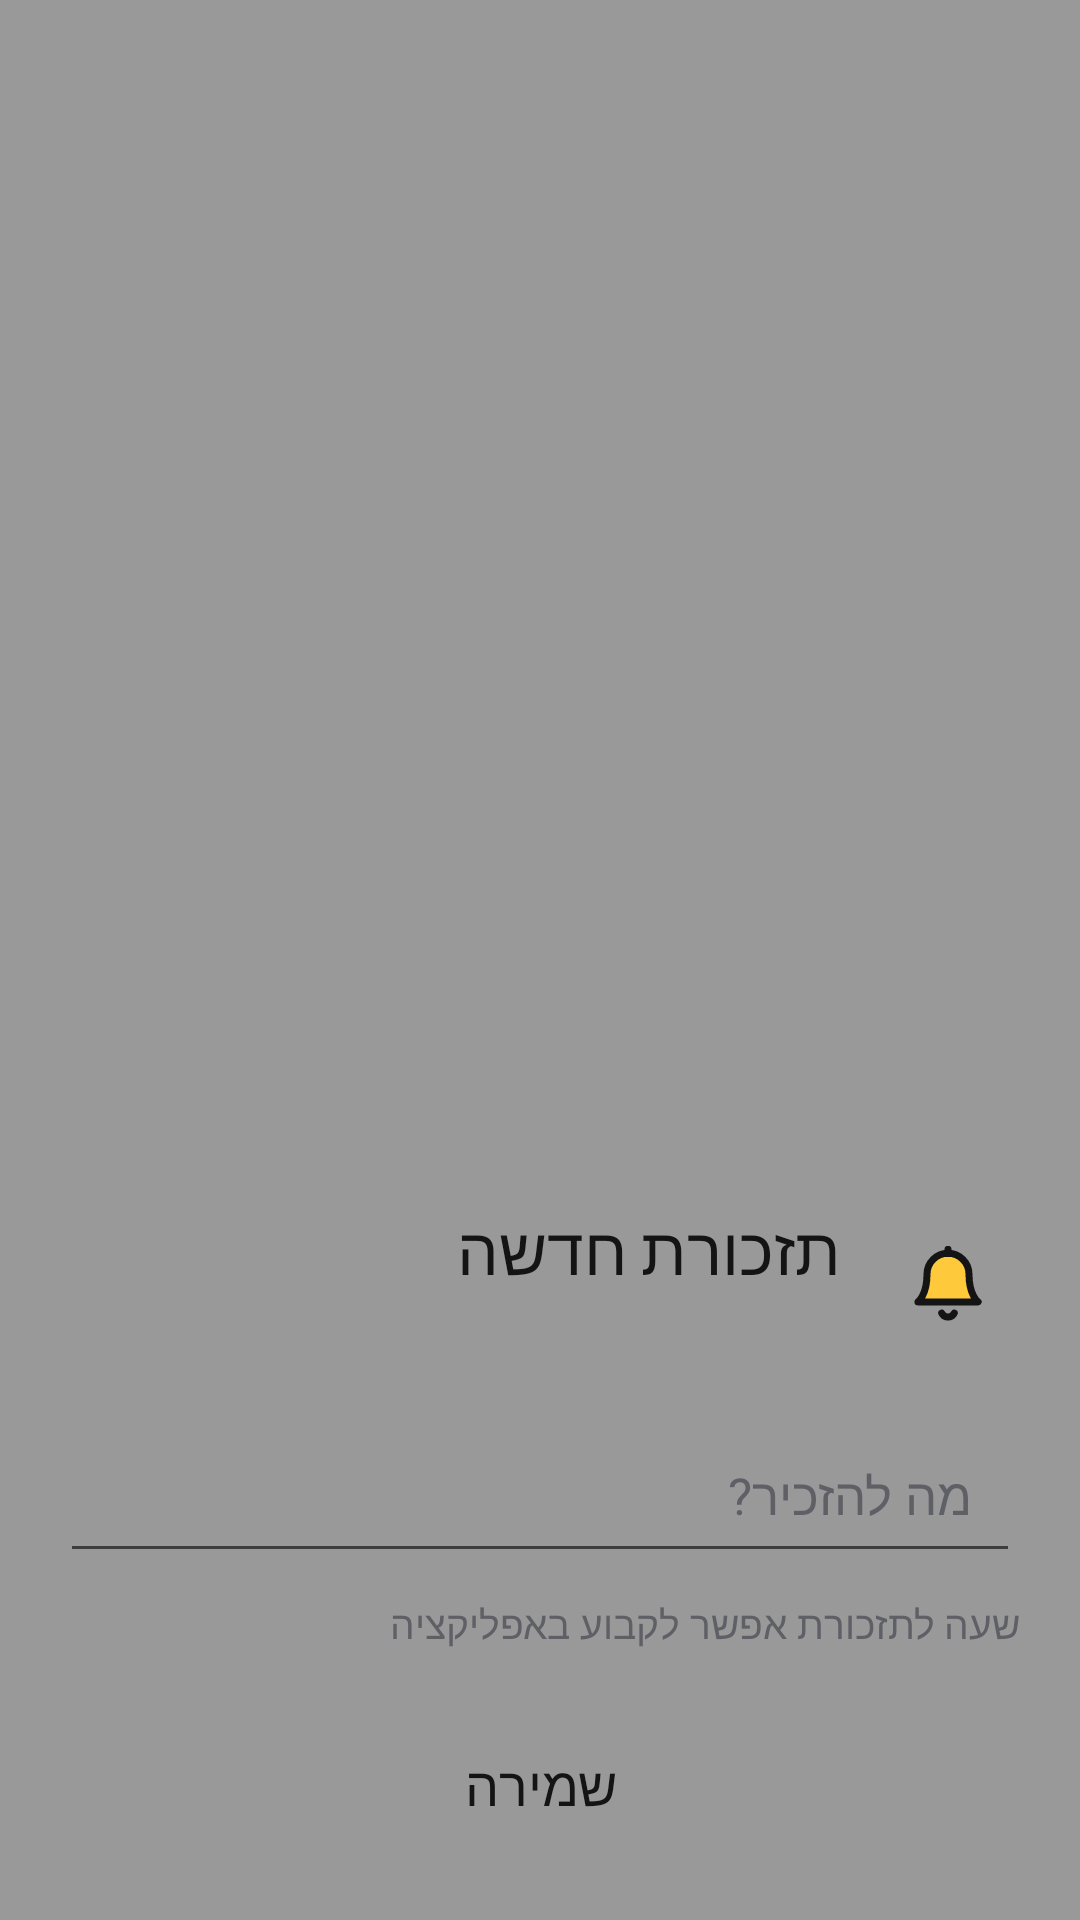

Locate icon controls on the screen. Image size 1080px x 1920px, boxes as Rect(x1, y1, x2, y2).
bell: Rect(914, 1246, 982, 1321)
